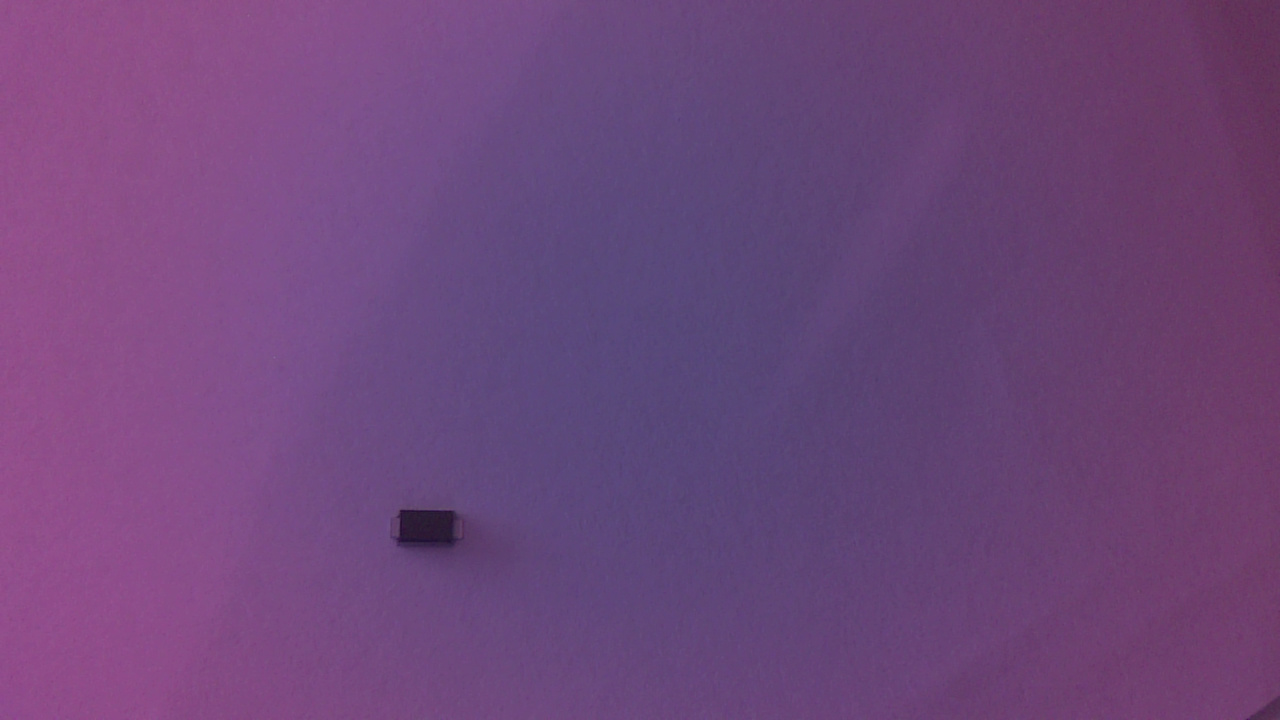Diode: (386, 510, 475, 563)
